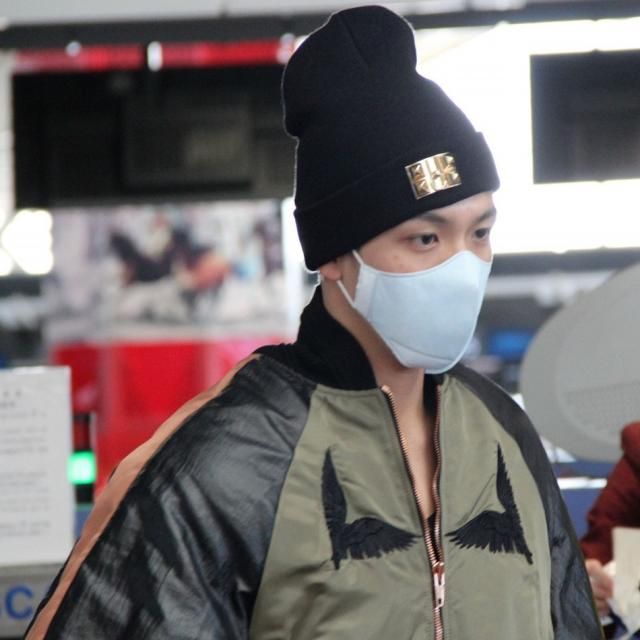mask: (356, 168, 496, 374)
